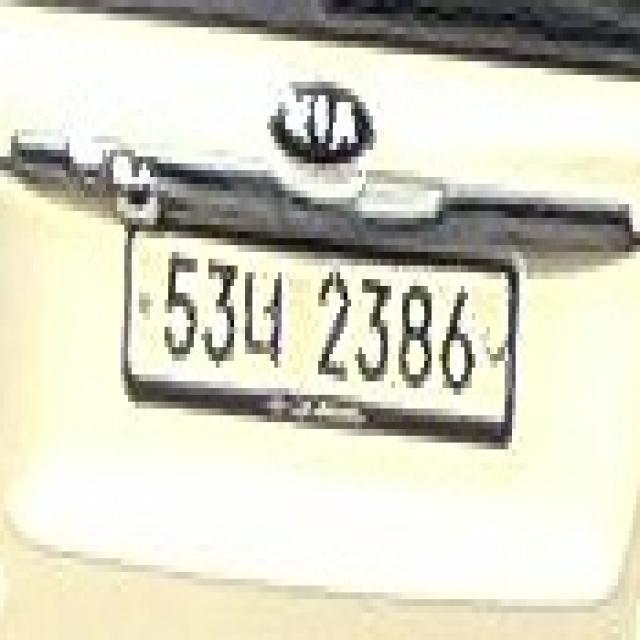2: (311, 259, 351, 381)
3: (344, 266, 395, 381), (198, 245, 234, 375)
5: (157, 232, 201, 368)
6: (435, 259, 490, 388)
8: (384, 259, 435, 381)
license_plate: (120, 218, 516, 442)
neo: (234, 245, 293, 388)
